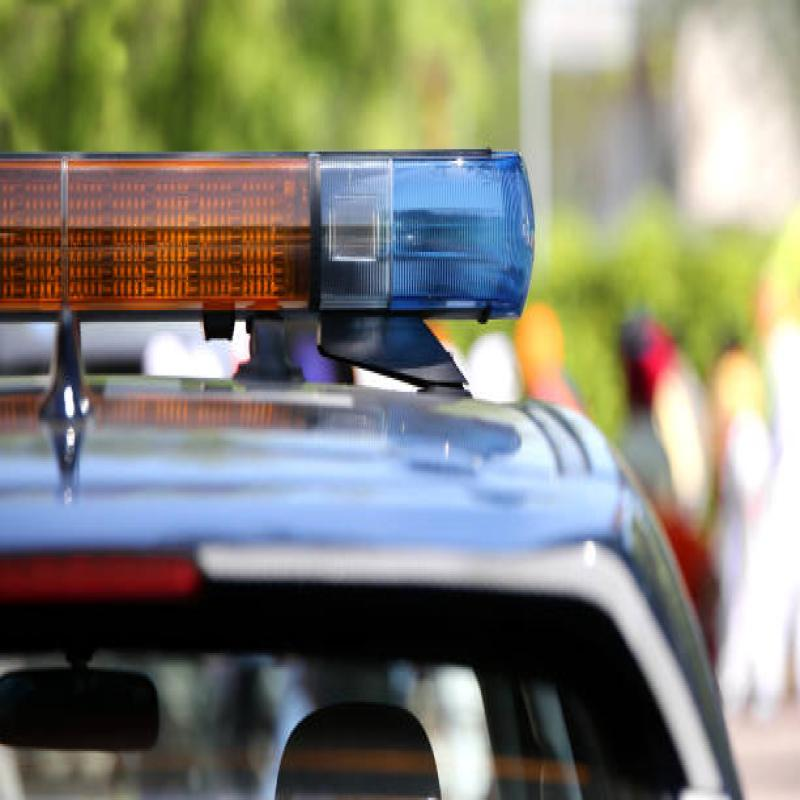AmbulanceSiren: (0, 109, 541, 342)
